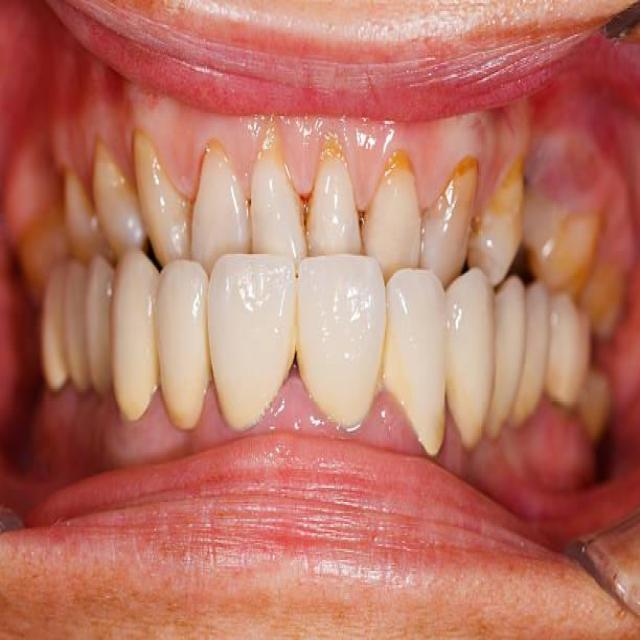caries: (314, 128, 357, 193), (375, 137, 423, 193), (255, 121, 297, 184)
